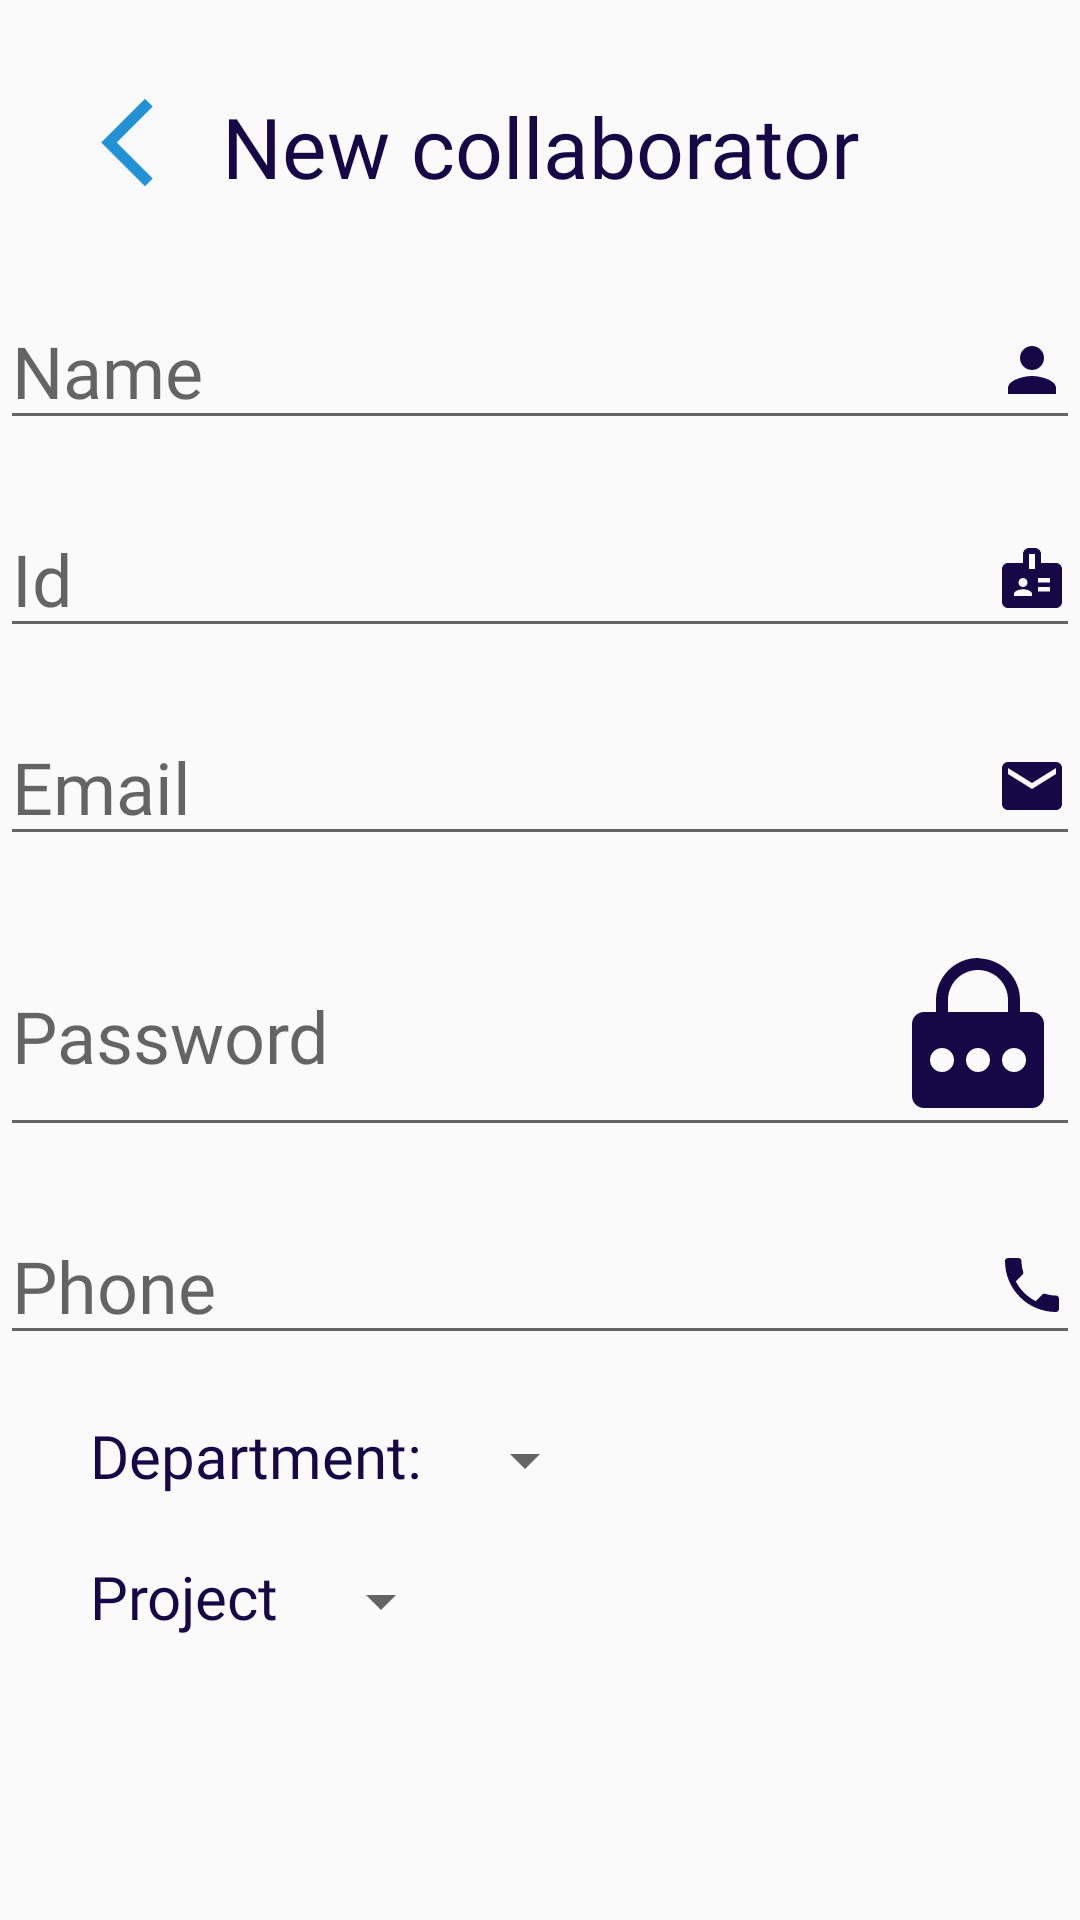

Point at icon controls on the screen. Image size 1080×1920, points as point (x, y).
back: point (127, 142)
